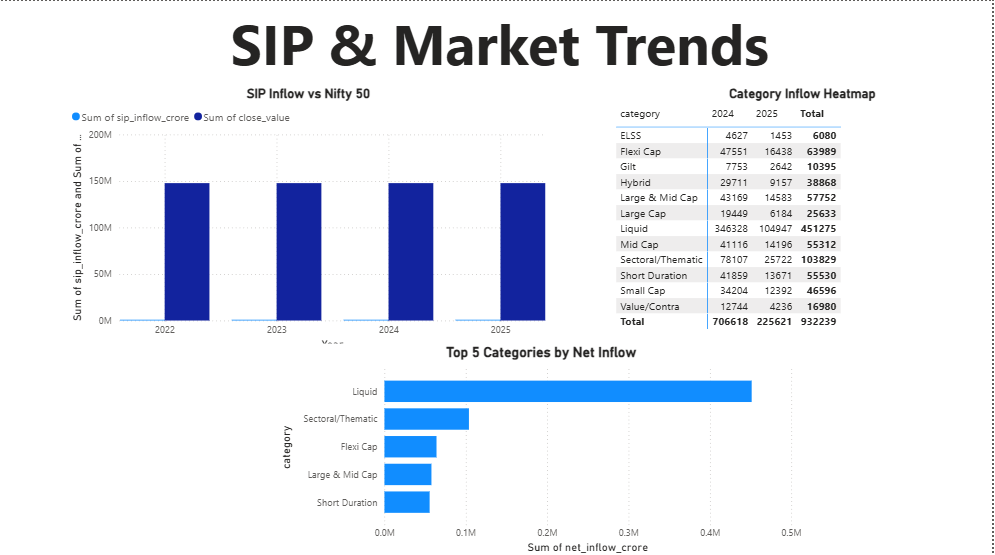

The page's visual inventory and layout, read from the dashboard file:
{"tool":"powerbi","page":{"name":"SIP & Market Trends","canvas":[1280,720],"ordinal":3},"visuals":[{"type":"textbox","box":[10.4,0,1269.9,162.8],"z":0},{"type":"lineClusteredColumnComboChart","title":"SIP Inflow vs Nifty 50","fields":{"Category":["04_monthly_sip_inflows.month.Variation.Date Hierarchy.Year","04_monthly_sip_inflows.month.Variation.Date Hierarchy.Quarter","04_monthly_sip_inflows.month.Variation.Date Hierarchy.Month","04_monthly_sip_inflows.month.Variation.Date Hierarchy.Day"],"Y":["Sum(04_monthly_sip_inflows.sip_inflow_crore)","Sum(10_benchmark_indices.close_value)"]},"box":[87.3,109.5,621.6,346.3],"z":1000},{"type":"pivotTable","title":"Category Inflow Heatmap","fields":{"Rows":["05_category_inflows.category"],"Values":["Sum(05_category_inflows.net_inflow_crore)"],"Columns":["05_category_inflows.month.Variation.Date Hierarchy.Year","05_category_inflows.month.Variation.Date Hierarchy.Quarter","05_category_inflows.month.Variation.Date Hierarchy.Month","05_category_inflows.month.Variation.Date Hierarchy.Day"]},"box":[790.4,109.5,489.9,333],"z":2000},{"type":"clusteredBarChart","title":"Top 5 Categories by Net Inflow","fields":{"Category":["05_category_inflows.category"],"Y":["Sum(05_category_inflows.net_inflow_crore)"]},"box":[356.7,442.6,683.8,276.8],"z":3000}]}

Visuals, with their boxes in screenshot pixels (x1, y1, x2, y2), scaled from the page's 1280x720 canvas onto the 995x555 screenshot:
textbox: x1=8 y1=0 x2=994 y2=125
"SIP Inflow vs Nifty 50" lineClusteredColumnComboChart: x1=68 y1=84 x2=551 y2=351
"Category Inflow Heatmap" pivotTable: x1=614 y1=84 x2=994 y2=341
"Top 5 Categories by Net Inflow" clusteredBarChart: x1=277 y1=341 x2=809 y2=554
